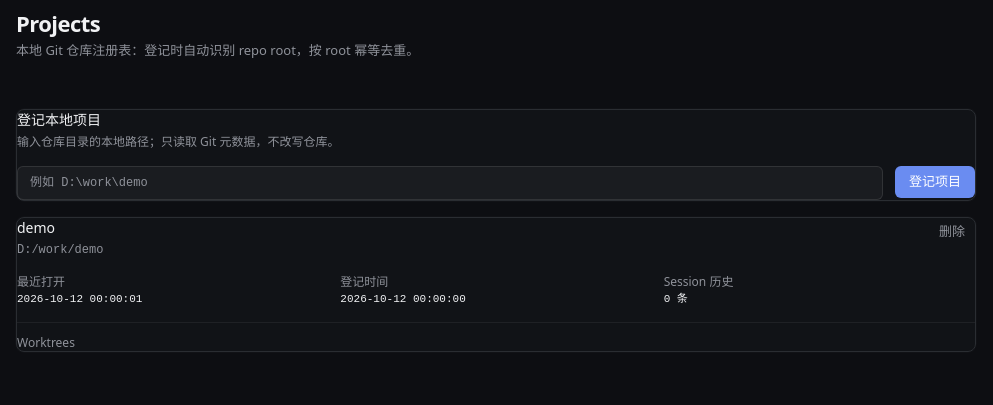
Scenario: ProjectsPage › Worktrees 区（ROADMAP C10） › 列表加载失败（未登记的项目根）显示行内错误
expect the element "demo" is shown: met, box [16, 216, 976, 352]
What coordinates should you click on to do the following:
click the button "Worktrees"
I would click on:
 (46, 343)
Its box is [17, 335, 75, 351].
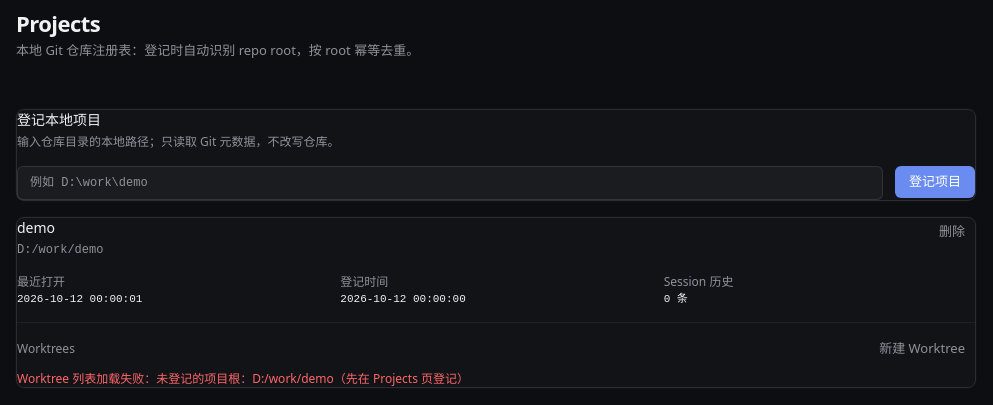
expect the message shows "未登记的项目根": met, box [156, 370, 469, 387]
